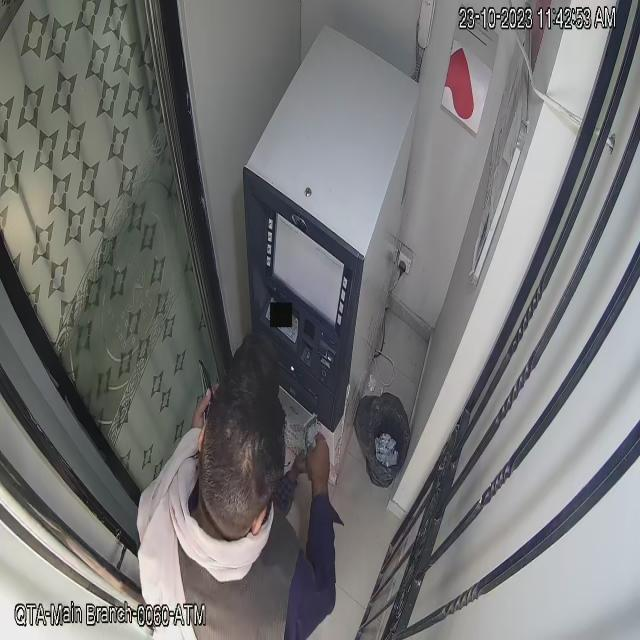note: (300, 409, 325, 455)
